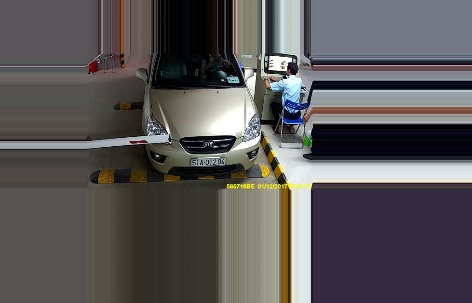plate: (189, 154, 226, 166)
